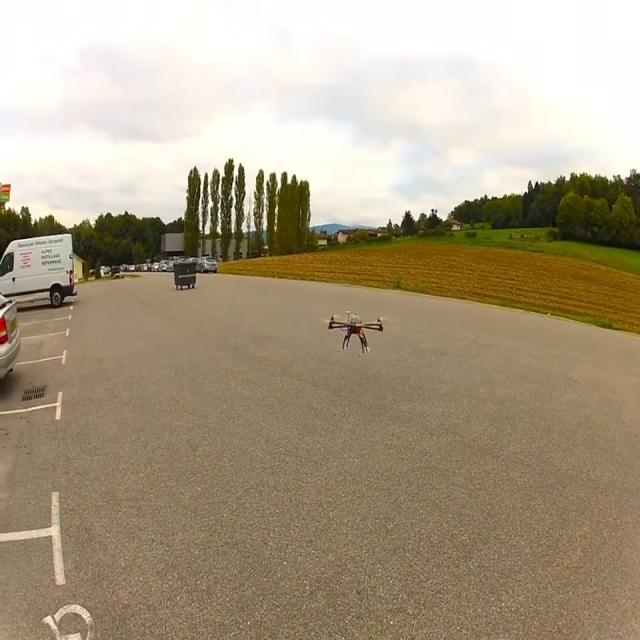drone: (328, 309, 383, 355)
